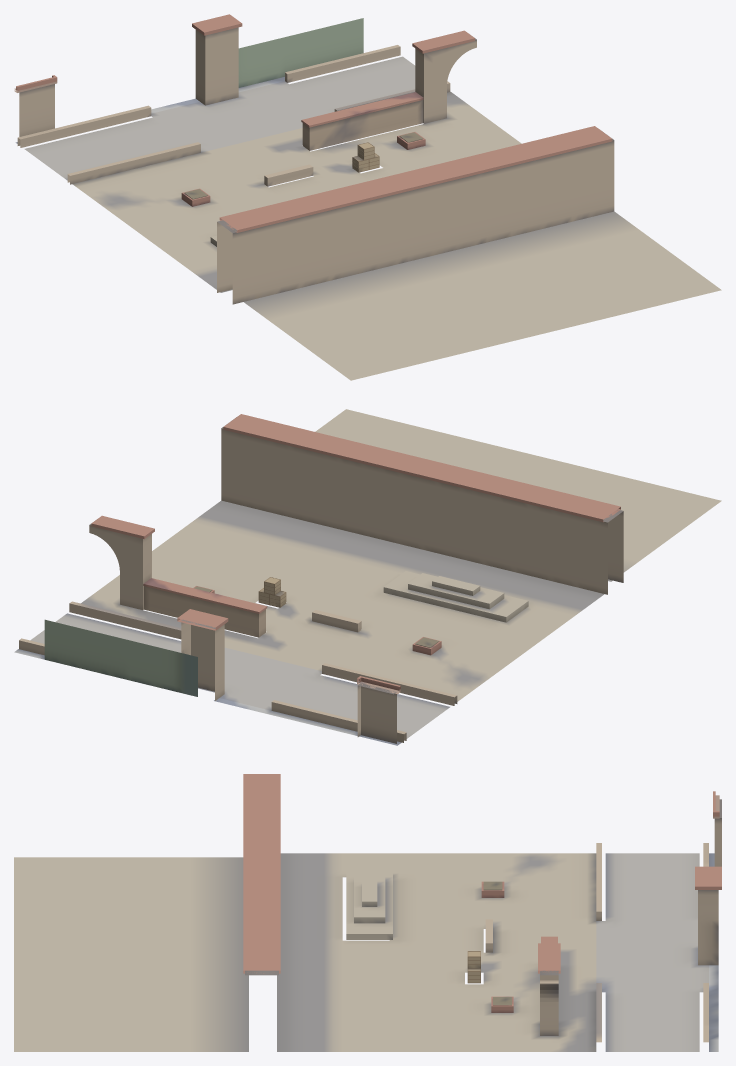
3 renders of one model, top to bottom at view 1: azimuth 30°, elevation 25°; view 2: azimuth 150°, elevation 25°; view 3: azimuth 270°, elevation 25°, orthographic. The views are drawn at different scales.
Parts seen in each view (by area): view 1: t; view 2: t; view 3: t.
Boxes of the visible parts, x1=… form: t: x1=14, y1=14, x2=721, y2=380; t: x1=14, y1=409, x2=721, y2=745; t: x1=14, y1=774, x2=721, y2=1051.
Bounding box in the file's own units: 50.4 × 9.4 × 75.37.
